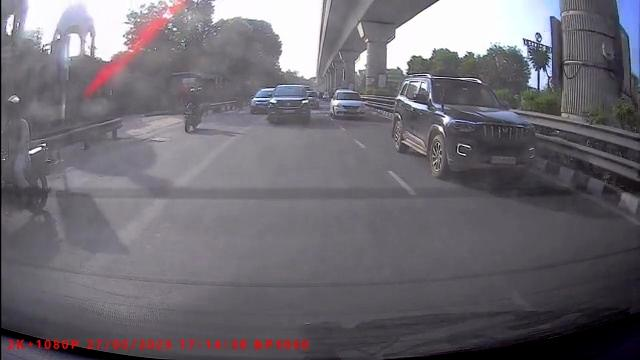motorcycle_with_helmet: (181, 87, 204, 135)
